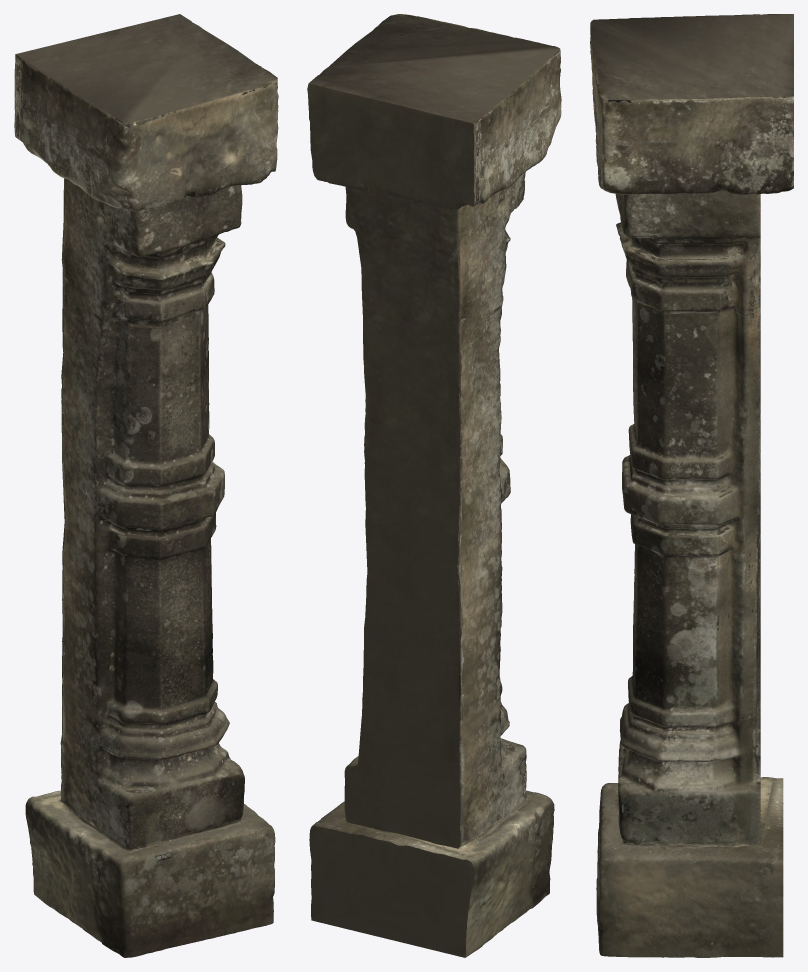
The model's file is MysonMuseum_trucuaC2 (1)_final.glb.
3 renders of one model, left to right at view 1: azimuth 30°, elevation 25°; view 2: azimuth 150°, elevation 25°; view 3: azimuth 270°, elevation 25°, orthographic. The views are drawn at different scales.
Size of the model in its own units: 0.5186 by 2.38 by 0.5118.
Materials: 1 (1 with a texture image).
